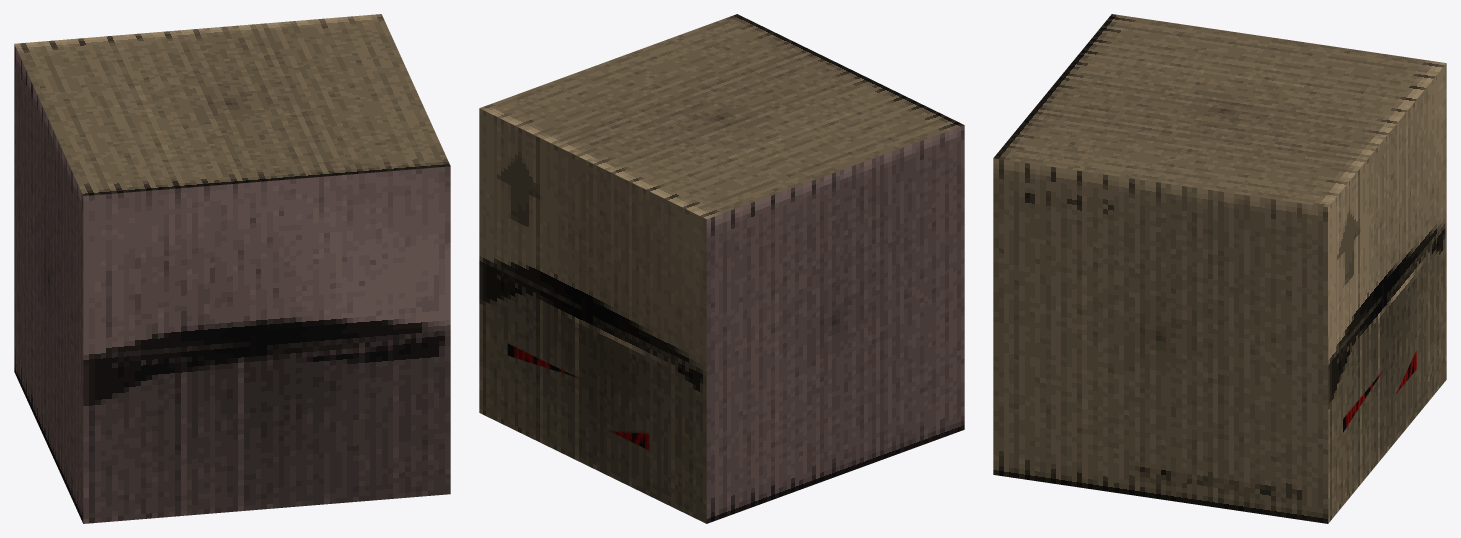
File: primary_254.glb
3 renders of one model, left to right at view 1: azimuth 30°, elevation 25°; view 2: azimuth 150°, elevation 25°; view 3: azimuth 270°, elevation 25°, orthographic. The views are drawn at different scales.
Visible parts, largest first — view 1: Object; view 2: Object; view 3: Object.
Boxes of the visible parts, left/top/right/bottom form: Object: left=14, top=14, right=450, bottom=523; Object: left=479, top=14, right=964, bottom=523; Object: left=993, top=14, right=1446, bottom=523.
Size of the model in its own units: 1.4 by 1.07 by 1.39.
7 materials, 7 textured.
